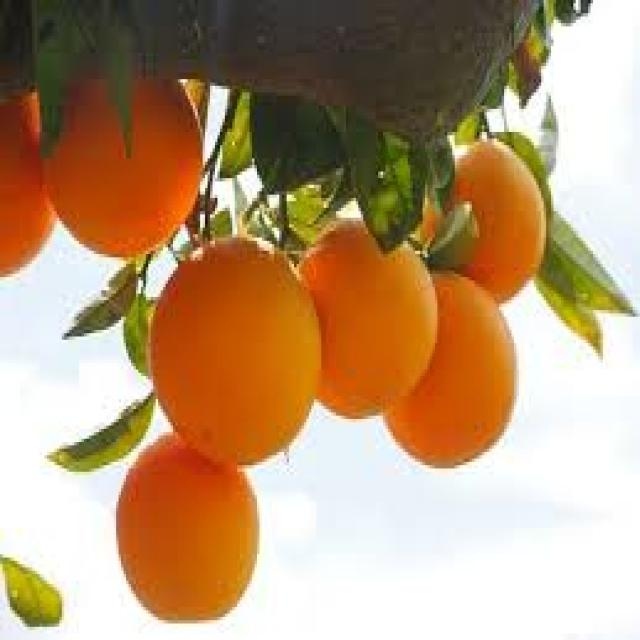orange: (146, 235, 332, 462)
